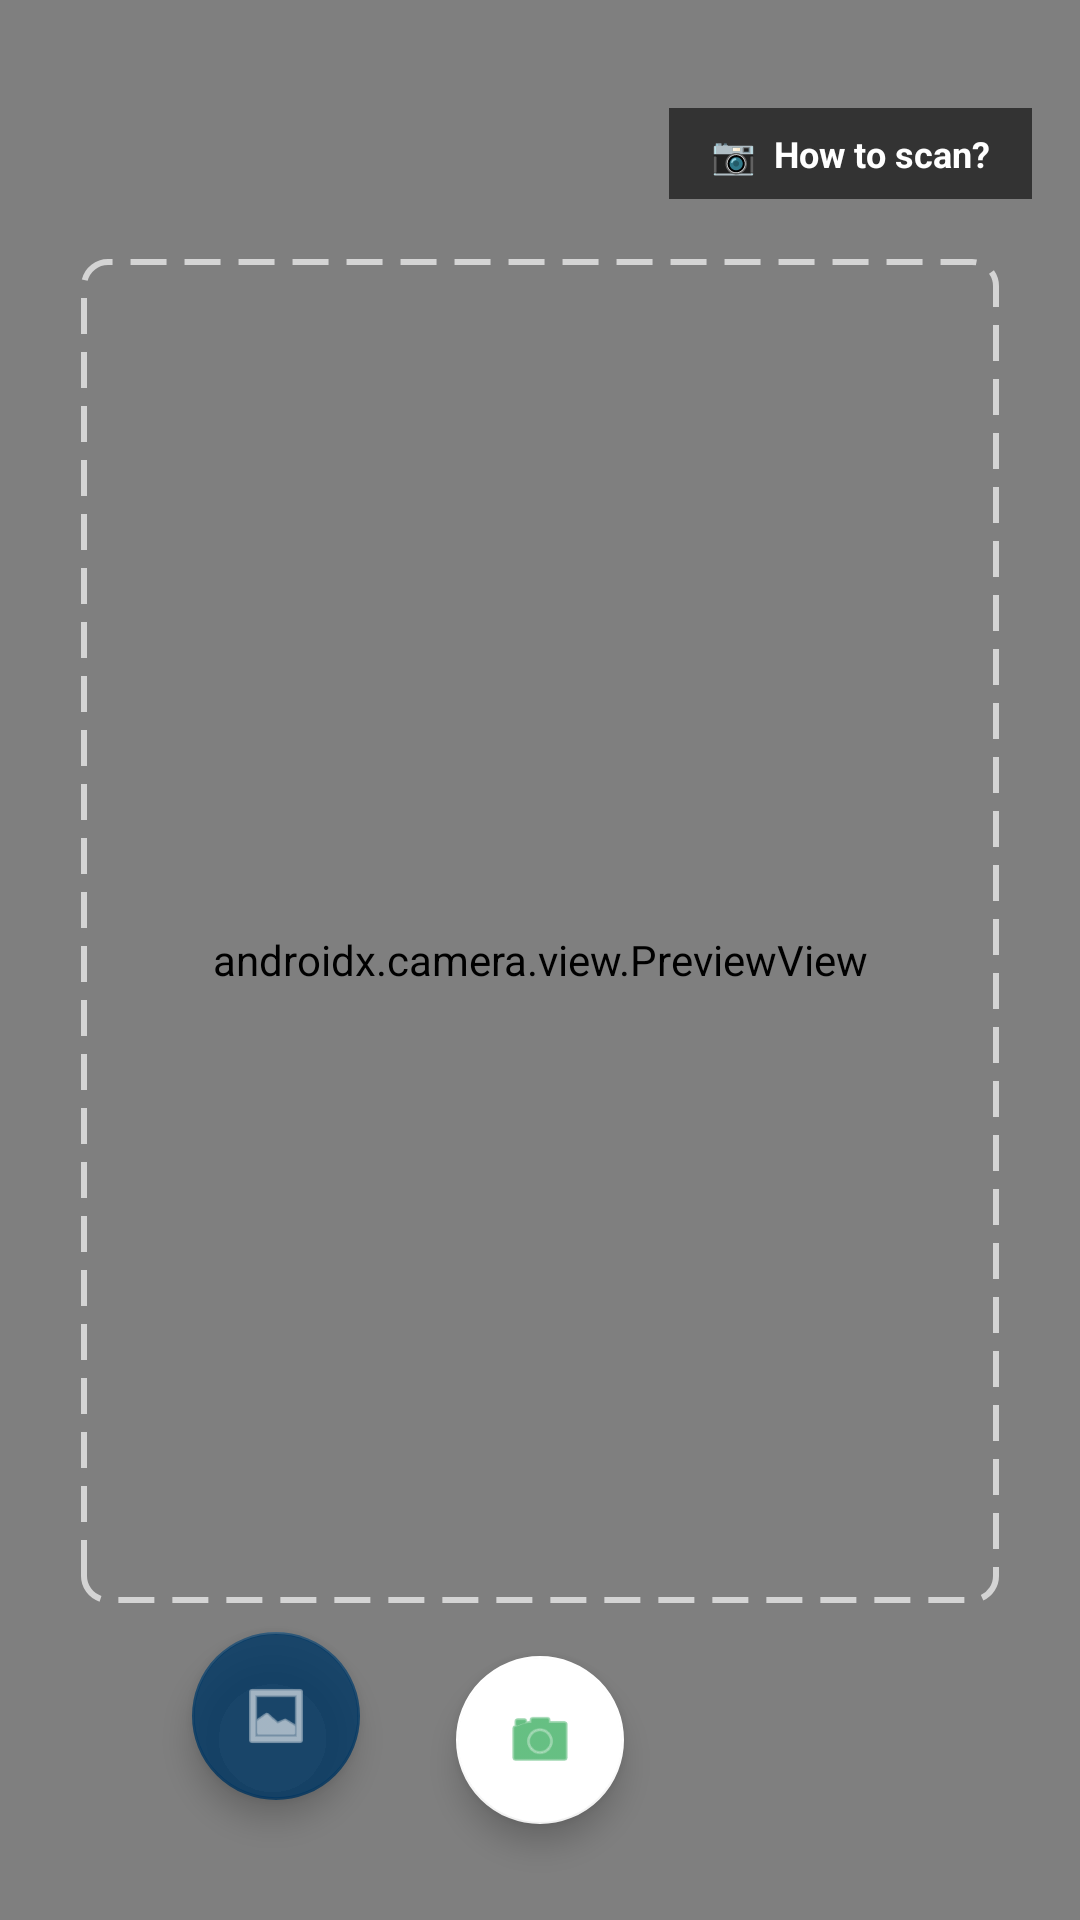

Icon bounding boxes for this 1080x1920 phone screenshot, format bbox(x1, y1, x2, y2):
Capture: bbox(456, 1656, 624, 1824)
Upload from gallery: bbox(192, 1632, 360, 1800)
